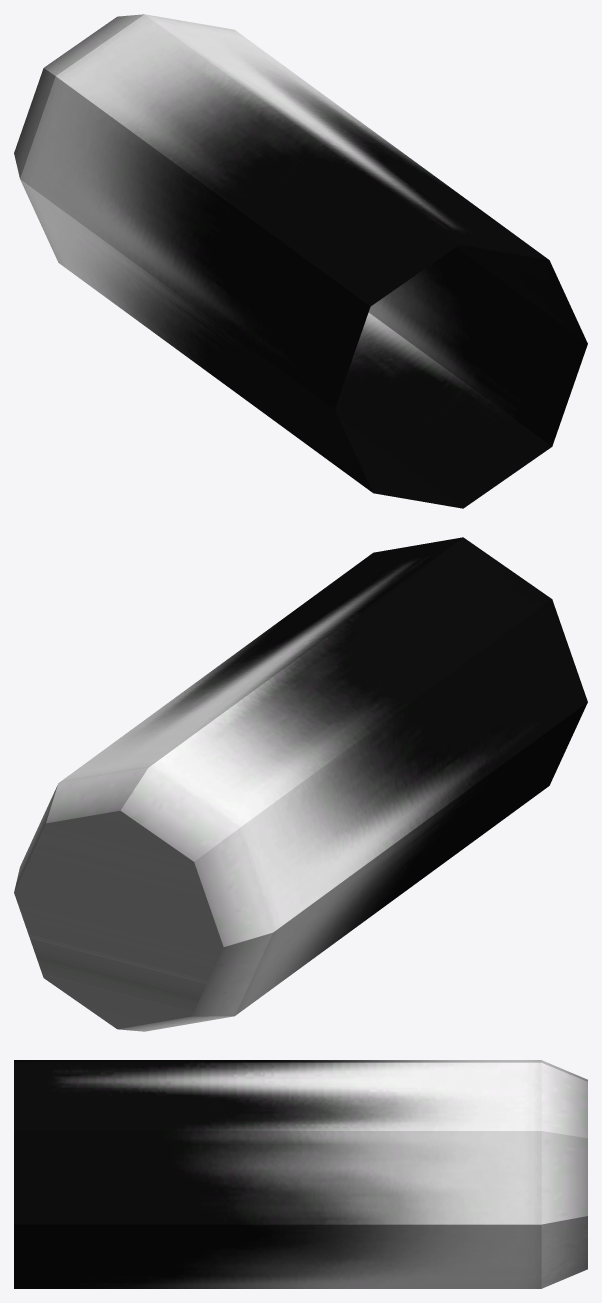
File: BulletBig_Space.fbx
3 views of the same model, one above another, from view 1: azimuth 30°, elevation 25°; view 2: azimuth 150°, elevation 25°; view 3: azimuth 270°, elevation 25° (orthographic). The views are drawn at different scales.
Visible parts, largest first — view 1: BulletMesh; view 2: BulletMesh; view 3: BulletMesh.
Boxes of the visible parts, bbox=[...] form: BulletMesh: bbox=[14, 14, 587, 508]; BulletMesh: bbox=[14, 537, 587, 1031]; BulletMesh: bbox=[14, 1060, 587, 1288].
Bounding box in the file's own units: 0.5258 × 0.5258 × 1.23.
